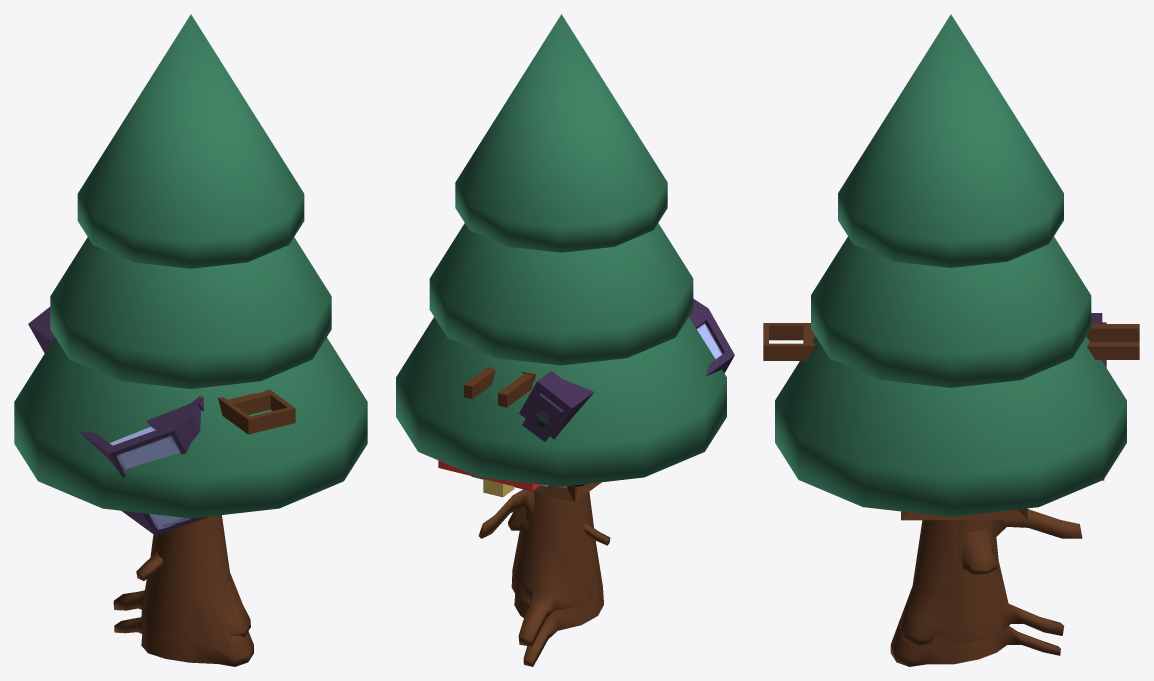
Rendered from assets2.fbx.
3 renders of one model, left to right at view 1: azimuth 30°, elevation 25°; view 2: azimuth 150°, elevation 25°; view 3: azimuth 270°, elevation 25°, orthographic. The views are drawn at different scales.
Parts seen in each view (by area): view 1: Arvore_2, Uno_quebrado, Uno_da_firma, Arvore_3; view 2: Arvore_2, Arvore_3, Uno_quebrado, Uno_da_firma, caixa_2, Arvore; view 3: Arvore_2, Arvore_3, Uno_da_firma, Arvore, caixa_2.
Part boxes in pixels (x1,y1,x2,y2): Arvore_2: (14, 14, 367, 666); Uno_quebrado: (28, 307, 208, 535); Uno_da_firma: (218, 389, 295, 434); Arvore_3: (113, 534, 250, 637); Arvore_2: (396, 14, 726, 666); Arvore_3: (511, 492, 592, 646); Uno_quebrado: (519, 298, 734, 441); Uno_da_firma: (438, 366, 584, 490); caixa_2: (471, 476, 601, 501); Arvore: (508, 507, 610, 545); Arvore_2: (775, 14, 1126, 666); Arvore_3: (898, 520, 1064, 645); Uno_da_firma: (763, 323, 1139, 480); Arvore: (959, 528, 996, 574); caixa_2: (901, 508, 1027, 520).
Bounding box in the file's own units: 651 × 1326 × 695.
